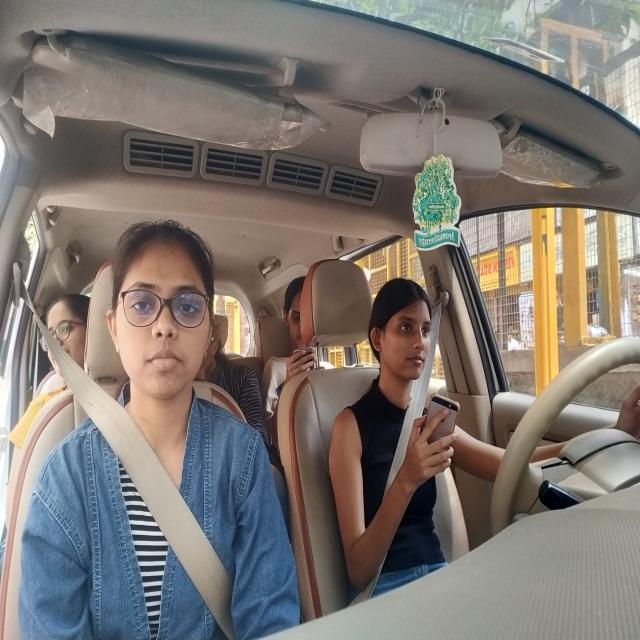mobile: (426, 392, 460, 476)
person: (101, 212, 213, 402), (364, 277, 442, 388), (38, 293, 90, 373), (280, 274, 313, 350)
